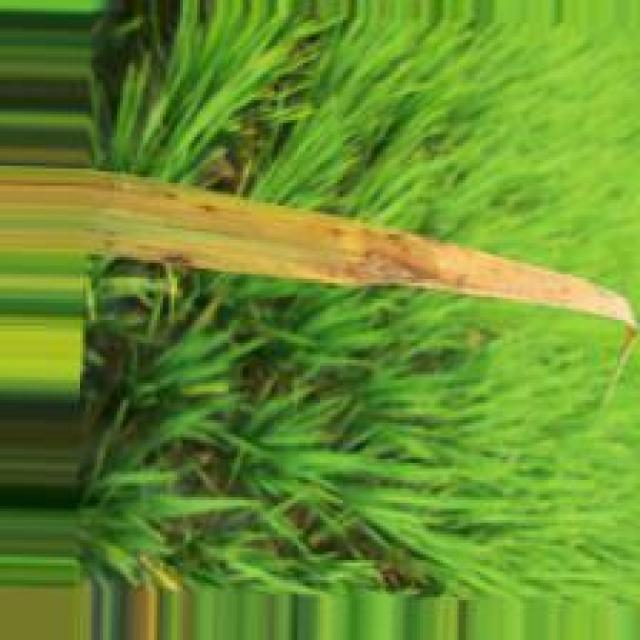Bacterial_Leaf_Blight: (90, 174, 627, 321)
